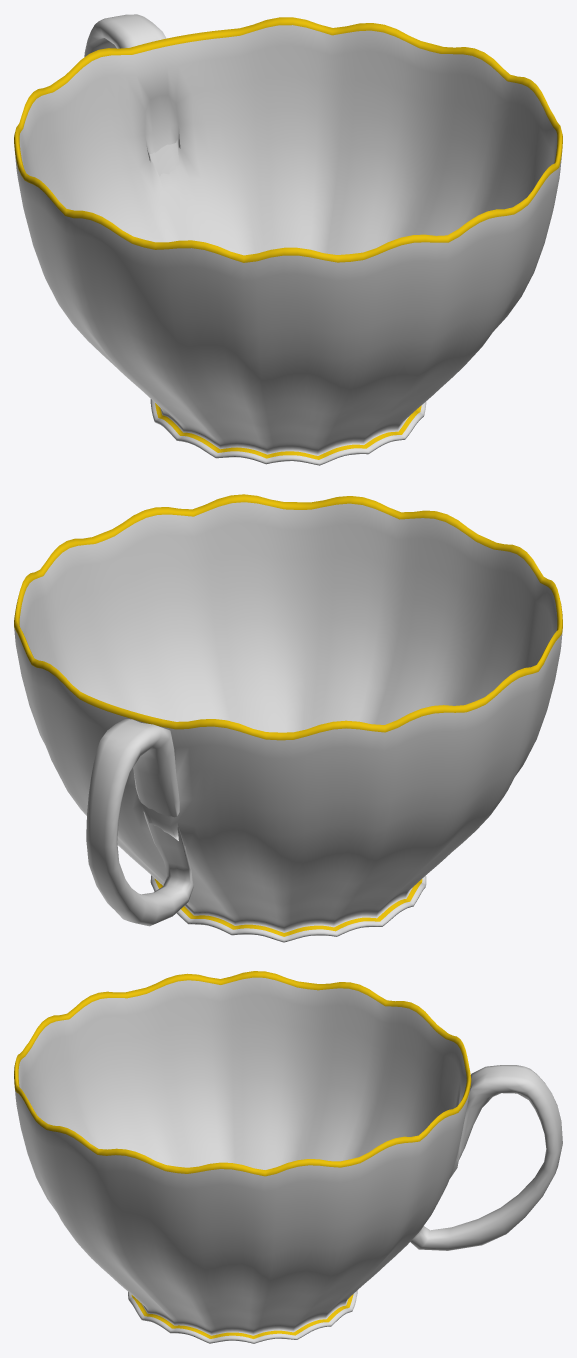
File: cup.fbx
3 renders of one model, top to bottom at view 1: azimuth 30°, elevation 25°; view 2: azimuth 150°, elevation 25°; view 3: azimuth 270°, elevation 25°, orthographic. The views are drawn at different scales.
Parts seen in each view (by area): view 1: Cylinder; view 2: Cylinder; view 3: Cylinder.
Boxes of the visible parts, <box> form: Cylinder: <box>14,14,562,465</box>; Cylinder: <box>14,494,562,942</box>; Cylinder: <box>14,971,562,1343</box>.
Bounding box in the file's own units: 260 × 147 × 312.
